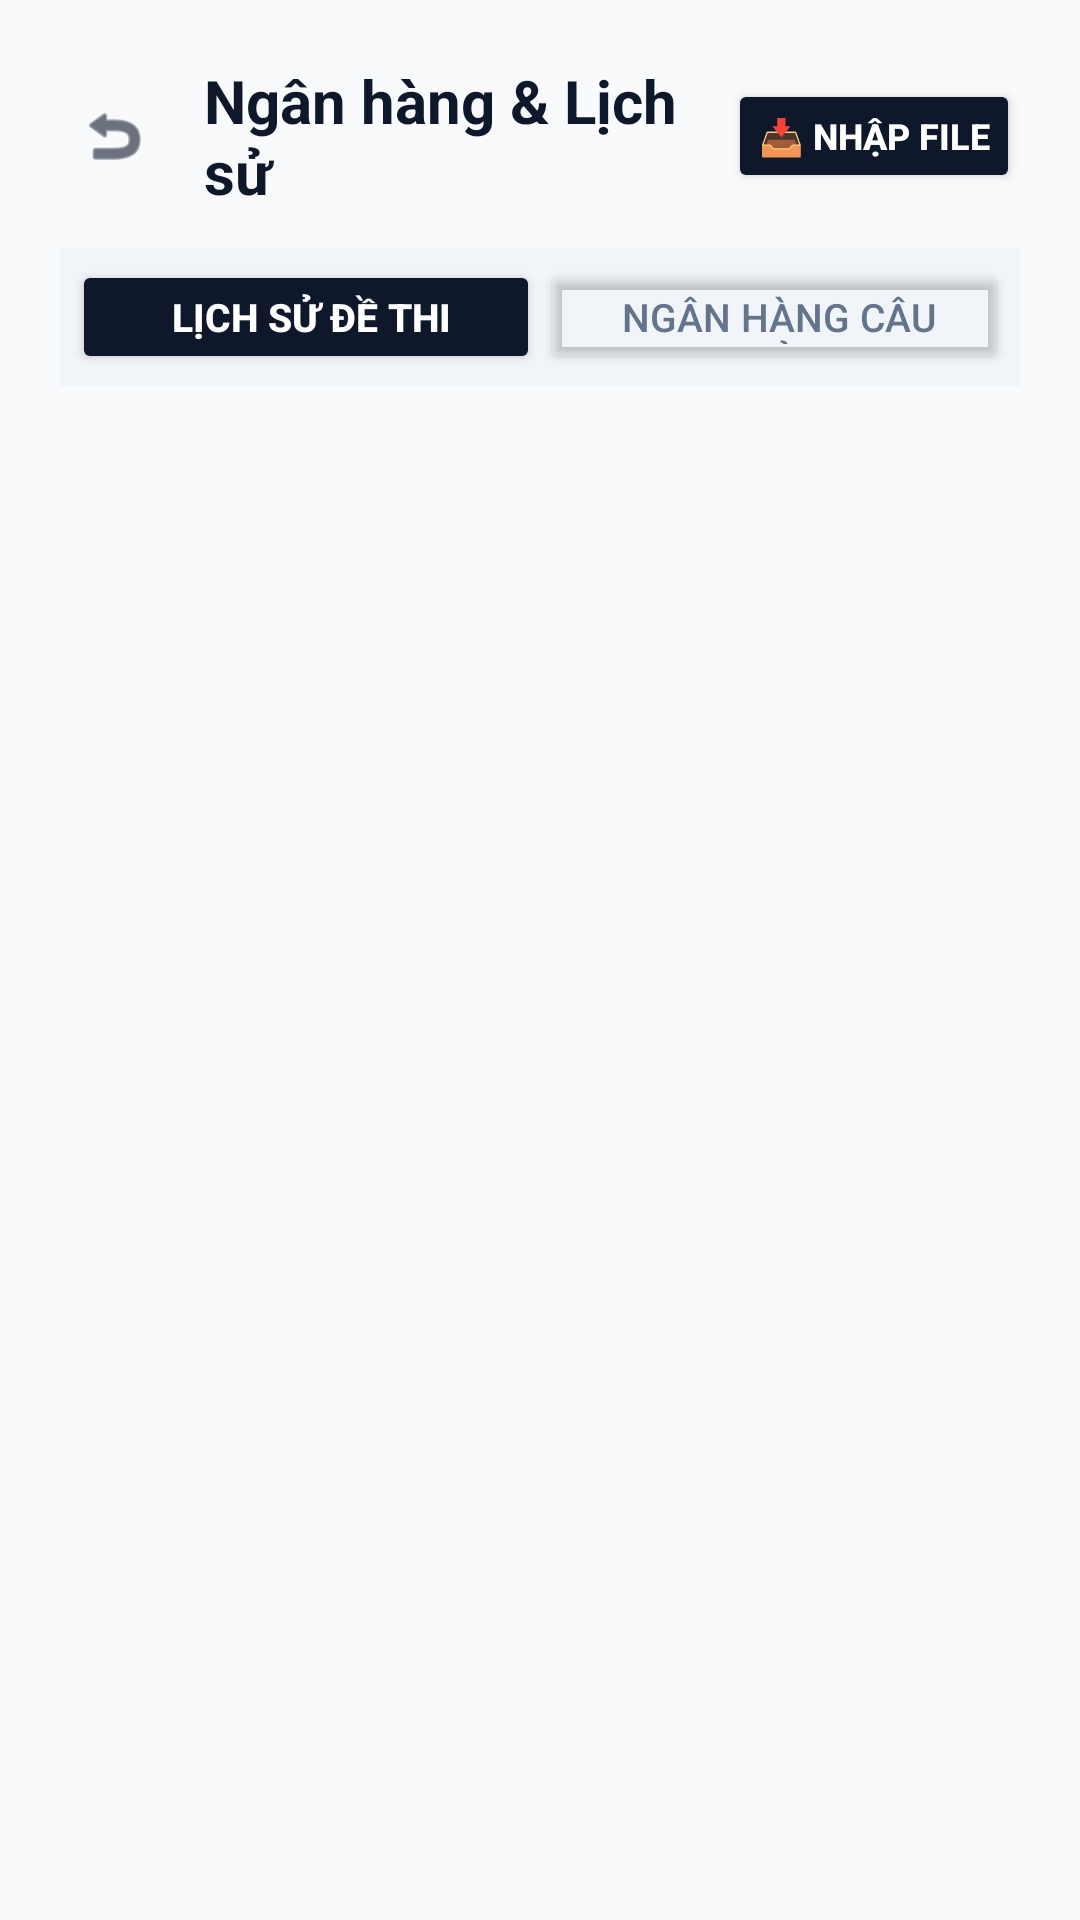

Screen size 1080 x 1920. Icon name, then its box in pixels as box(x1, y1, x2, y2):
revert: box(89, 113, 141, 160)
